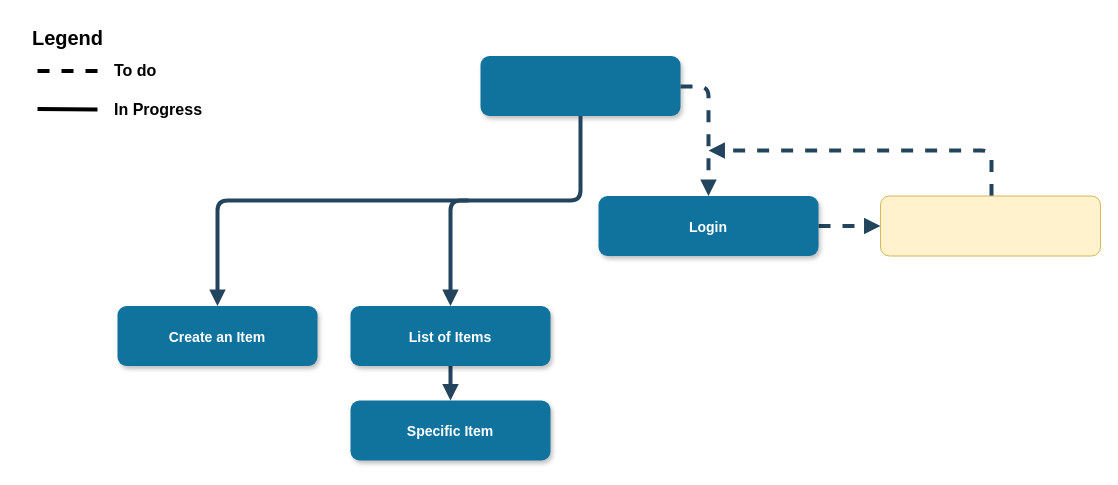
The diagram is 1118 pixels wide and 485 high, and some of its shapes have lost their labels. The centre of each missing label's shape, as x and y in pixels:
App: the point at 581,87
Create an account: the point at 990,225
